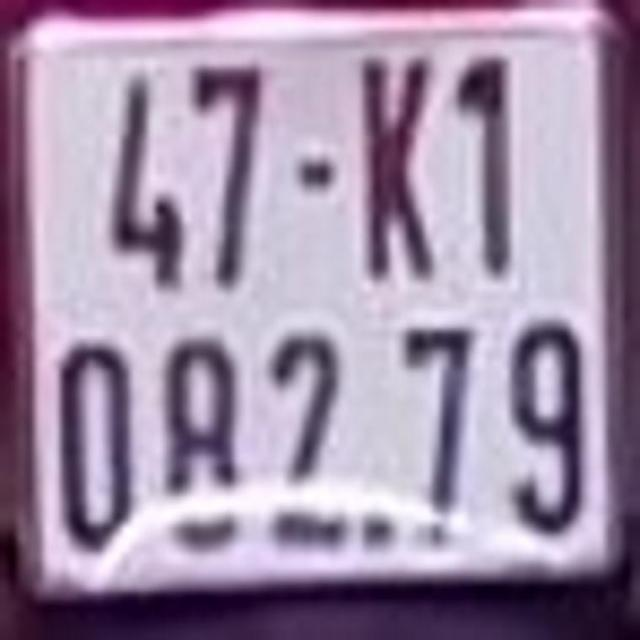0: (49, 332, 138, 556)
1: (452, 49, 520, 280)
2: (262, 324, 351, 551)
4: (104, 61, 186, 292)
7: (393, 314, 480, 549), (191, 56, 268, 289)
8: (156, 329, 242, 553)
9: (502, 310, 590, 540)
K: (349, 48, 439, 284)
